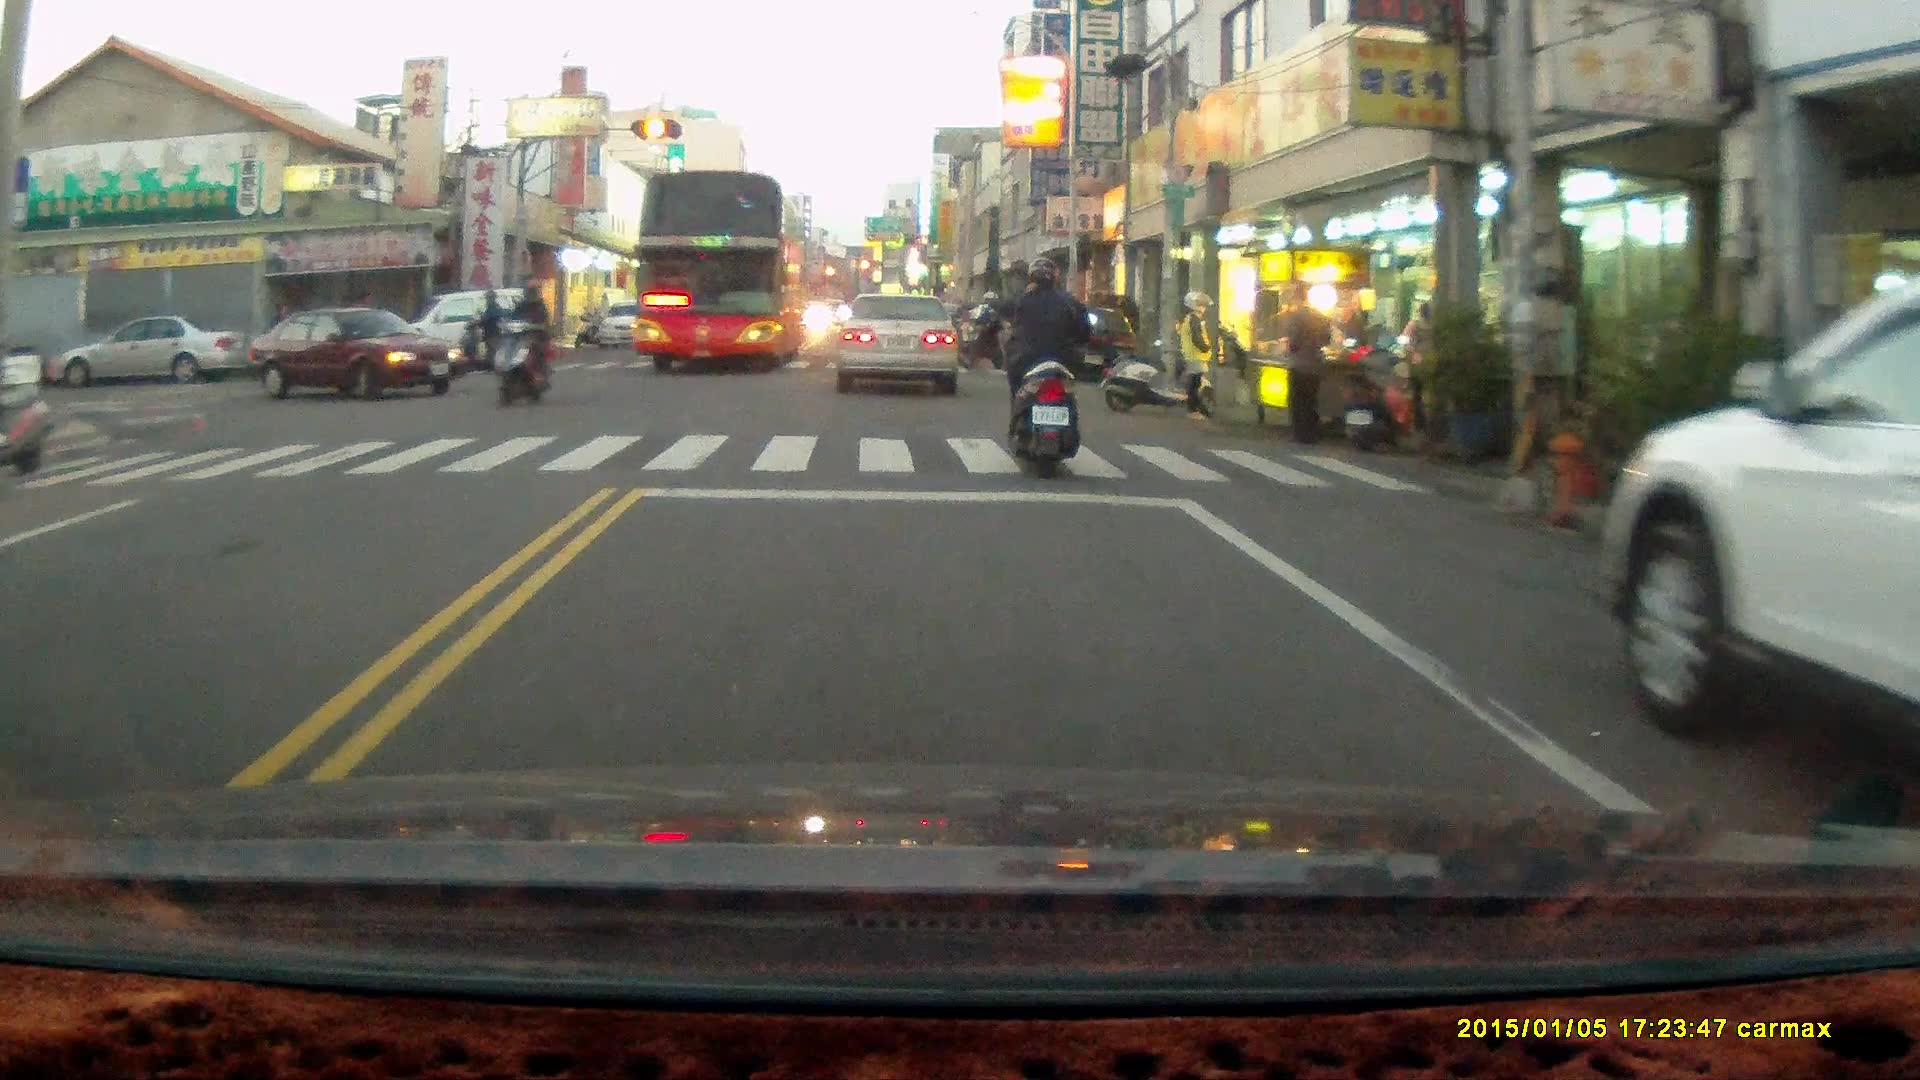pedestrian: (1280, 275, 1330, 443), (1172, 281, 1212, 418), (1400, 301, 1436, 436)
rider: (993, 244, 1100, 472), (493, 274, 552, 407), (956, 286, 1015, 369), (453, 286, 512, 369)
vehicle: (1593, 284, 1920, 827), (634, 170, 803, 377), (250, 301, 460, 396), (45, 311, 230, 390), (834, 291, 963, 397), (1044, 300, 1143, 383), (599, 297, 666, 349)
